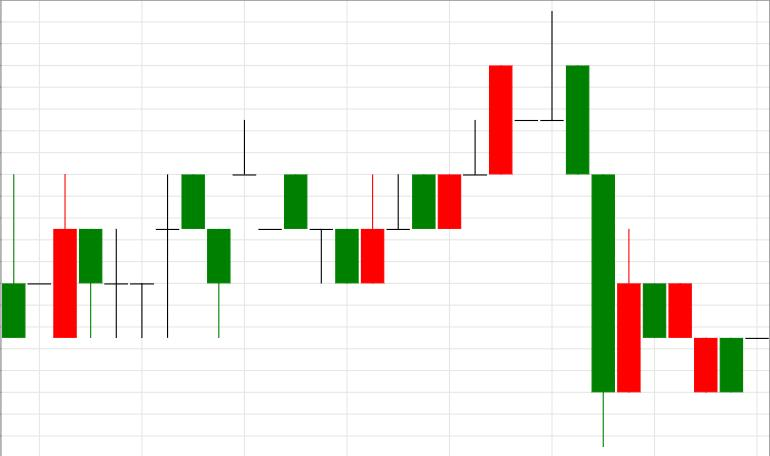bullish_engulfing_rise: (232, 119, 384, 284)
